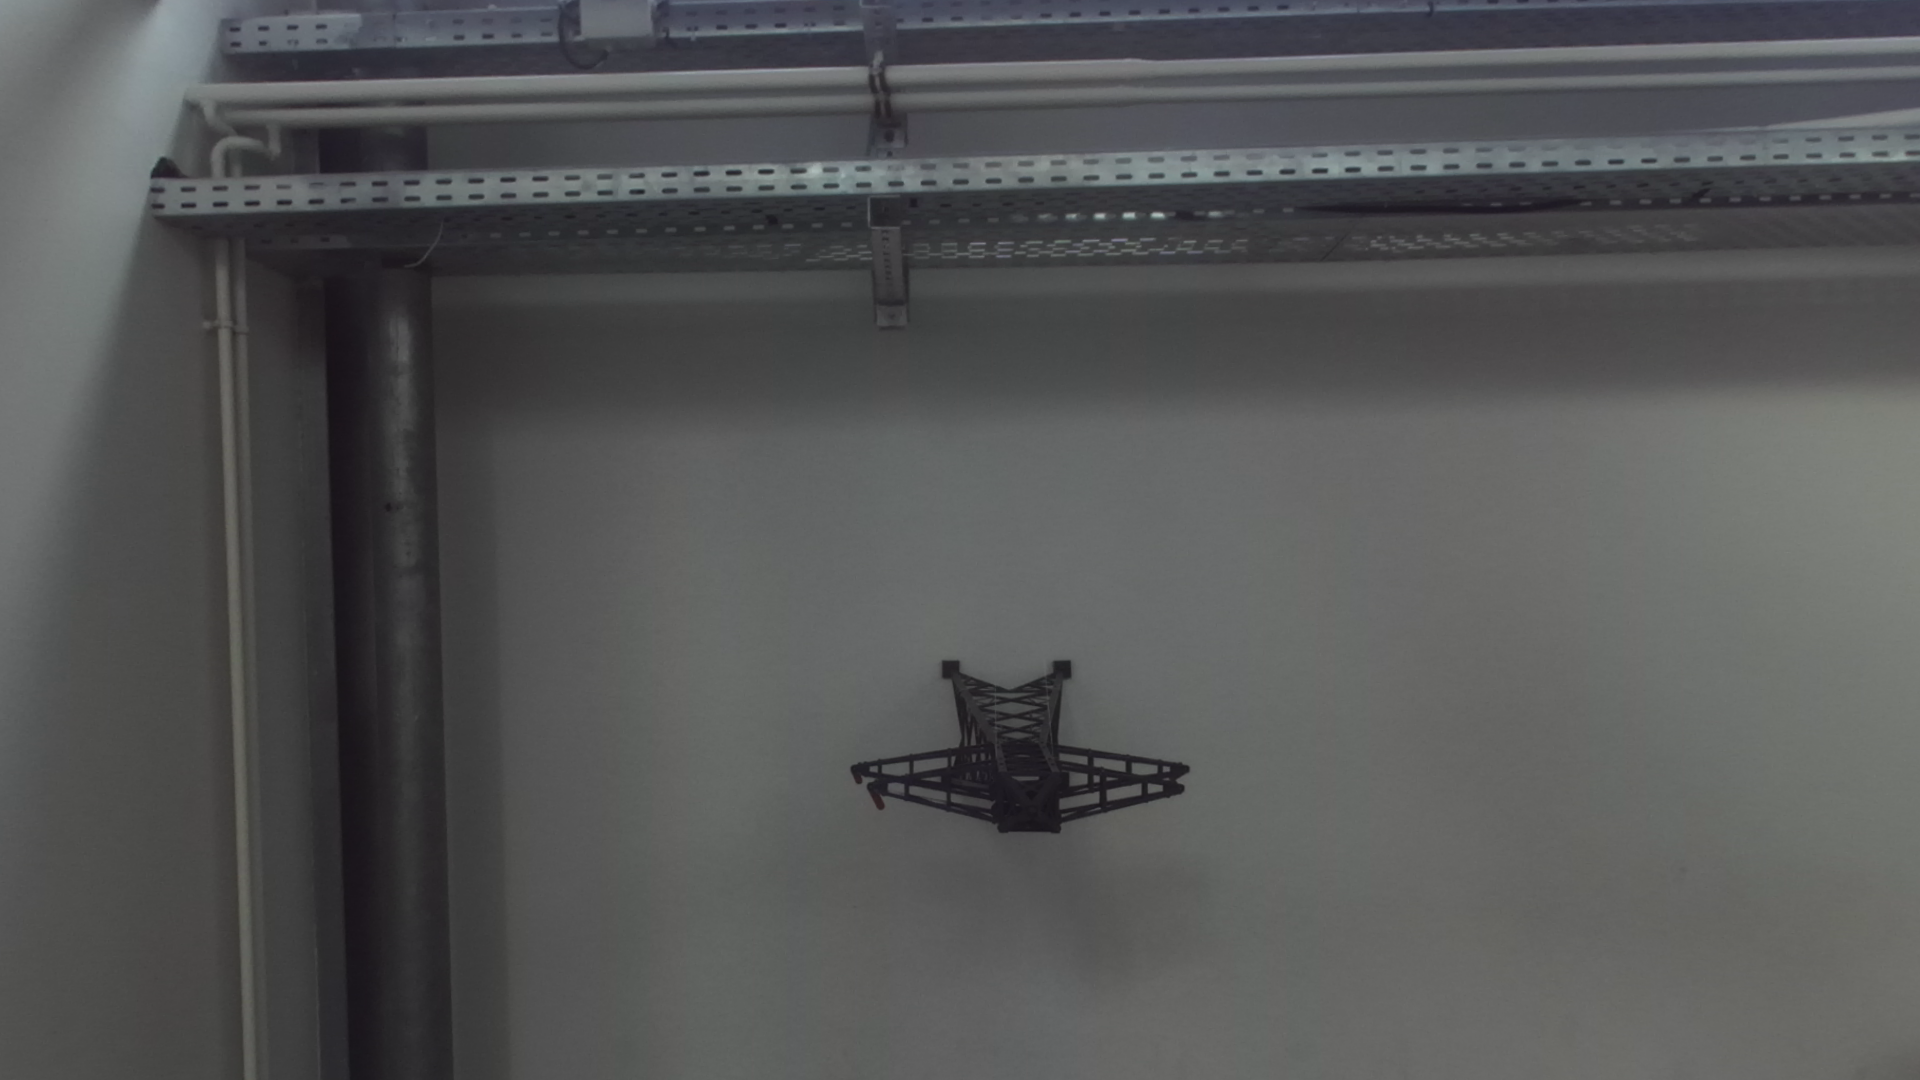pylon_phy: (866, 769, 1189, 837)
